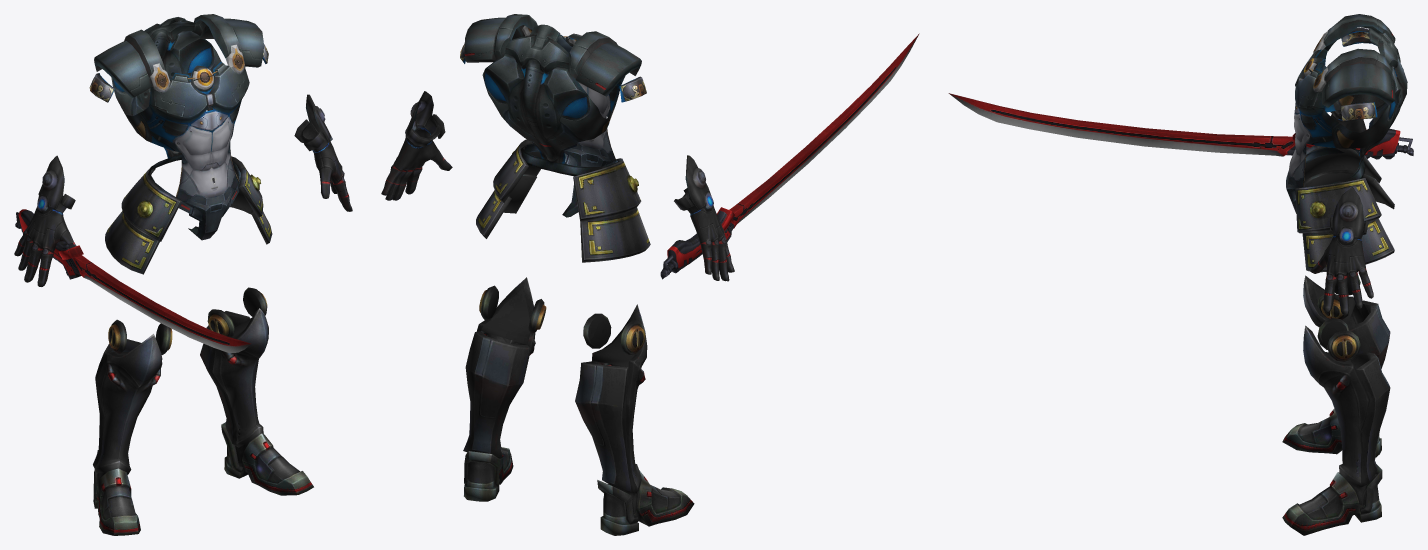
File: Model001_weapons.glb
The picture shows the model from 3 angles, left to right: view 1: azimuth 30°, elevation 25°; view 2: azimuth 150°, elevation 25°; view 3: azimuth 270°, elevation 25°; orthographic projection. The views are drawn at different scales.
Visible parts, largest first — view 1: 0002_Model001_6_+0002-caopi-R-weapon.0002-caopi-R-weapon_0.1, 0001_Model001_6_+0002-caopi-R-weapon.0002-caopi-R-weapon_0.1; view 2: 0002_Model001_6_+0002-caopi-R-weapon.0002-caopi-R-weapon_0.1, 0001_Model001_6_+0002-caopi-R-weapon.0002-caopi-R-weapon_0.1; view 3: 0002_Model001_6_+0002-caopi-R-weapon.0002-caopi-R-weapon_0.1, 0001_Model001_6_+0002-caopi-R-weapon.0002-caopi-R-weapon_0.1.
Boxes of the visible parts, x1=… form: 0002_Model001_6_+0002-caopi-R-weapon.0002-caopi-R-weapon_0.1: x1=14, y1=14, x2=352, y2=535; 0001_Model001_6_+0002-caopi-R-weapon.0002-caopi-R-weapon_0.1: x1=15, y1=209, x2=251, y2=353; 0002_Model001_6_+0002-caopi-R-weapon.0002-caopi-R-weapon_0.1: x1=381, y1=14, x2=734, y2=535; 0001_Model001_6_+0002-caopi-R-weapon.0002-caopi-R-weapon_0.1: x1=660, y1=33, x2=919, y2=279; 0002_Model001_6_+0002-caopi-R-weapon.0002-caopi-R-weapon_0.1: x1=1282, y1=14, x2=1407, y2=535; 0001_Model001_6_+0002-caopi-R-weapon.0002-caopi-R-weapon_0.1: x1=948, y1=93, x2=1413, y2=159.
Bounding box in the file's own units: 1.18 × 1.65 × 1.53.
Materials: 2 (2 with a texture image).
